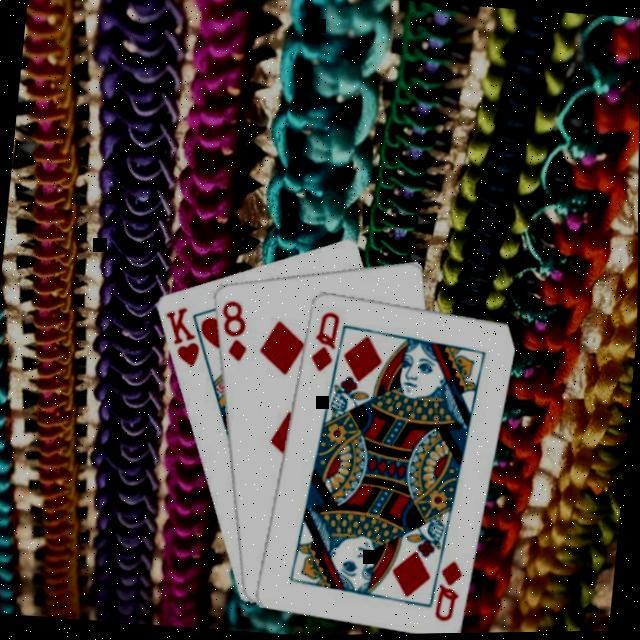8D: (216, 298, 255, 367)
KH: (158, 304, 207, 373)
QD: (308, 309, 344, 377), (432, 559, 468, 627)
